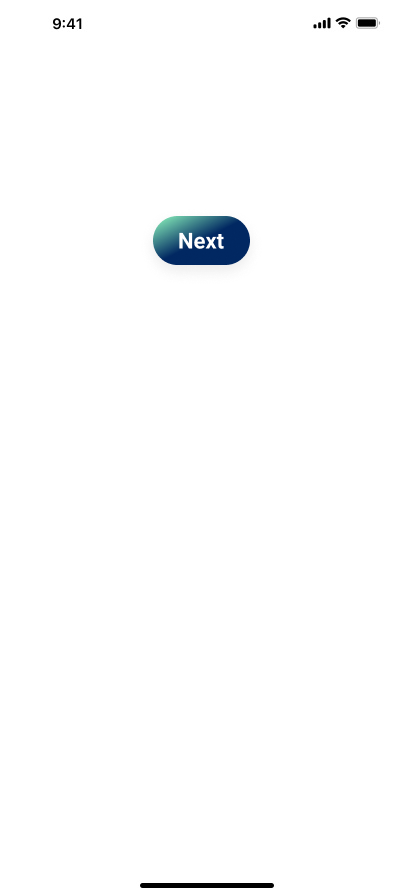Buttons: (137, 206, 266, 287)
Home Indicator: (0, 862, 414, 896)
Status Bar: (0, 0, 414, 44)
